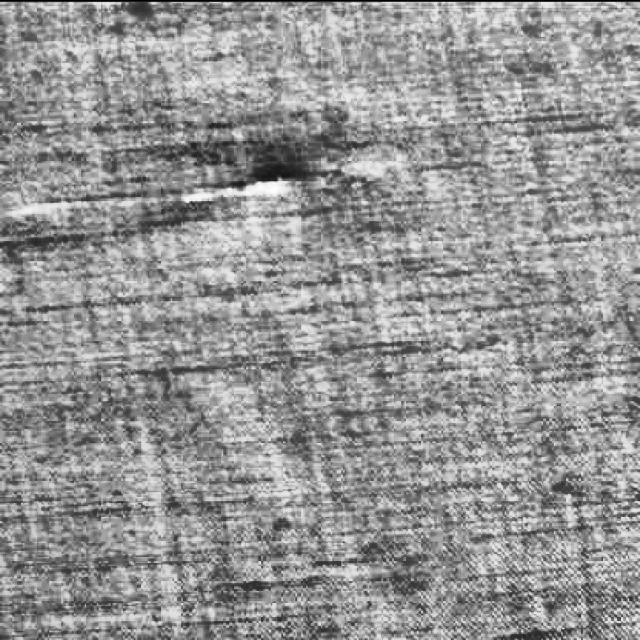thread_error: (0, 158, 354, 230)
